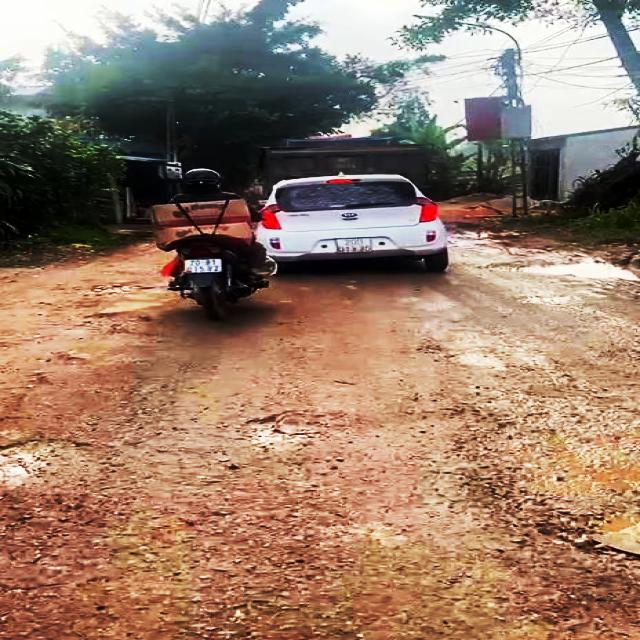pothole: (467, 457, 640, 568), (232, 406, 335, 459), (481, 255, 640, 285), (0, 436, 81, 491), (73, 304, 175, 338), (418, 331, 498, 374), (84, 282, 160, 300)
